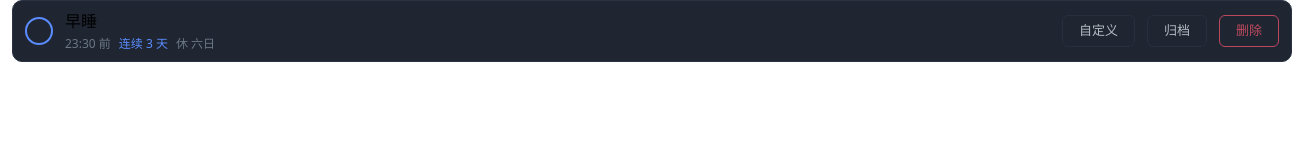
Test case: HabitRow › delete 失败显示错误且不吞
The image size is (1292, 160).
Step 1. Click the button with aria-label "删除 早睡" → coordinates (1249, 31), box [1219, 15, 1279, 47]
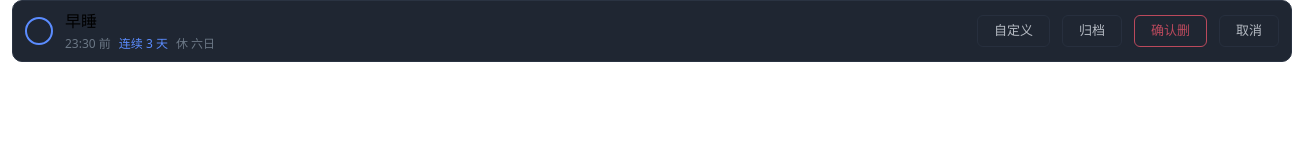
Step 2. Click the button with aria-label "确认删除 早睡" → coordinates (1170, 31), box [1134, 15, 1207, 47]
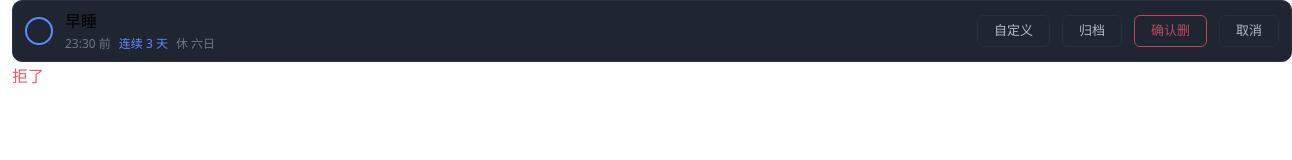
Result: the message reads "拒了" at [12, 65, 44, 87]
